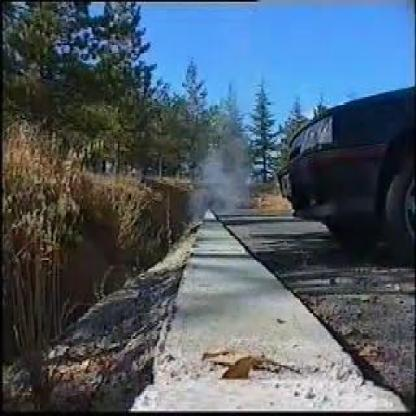-: (189, 169, 231, 223)
